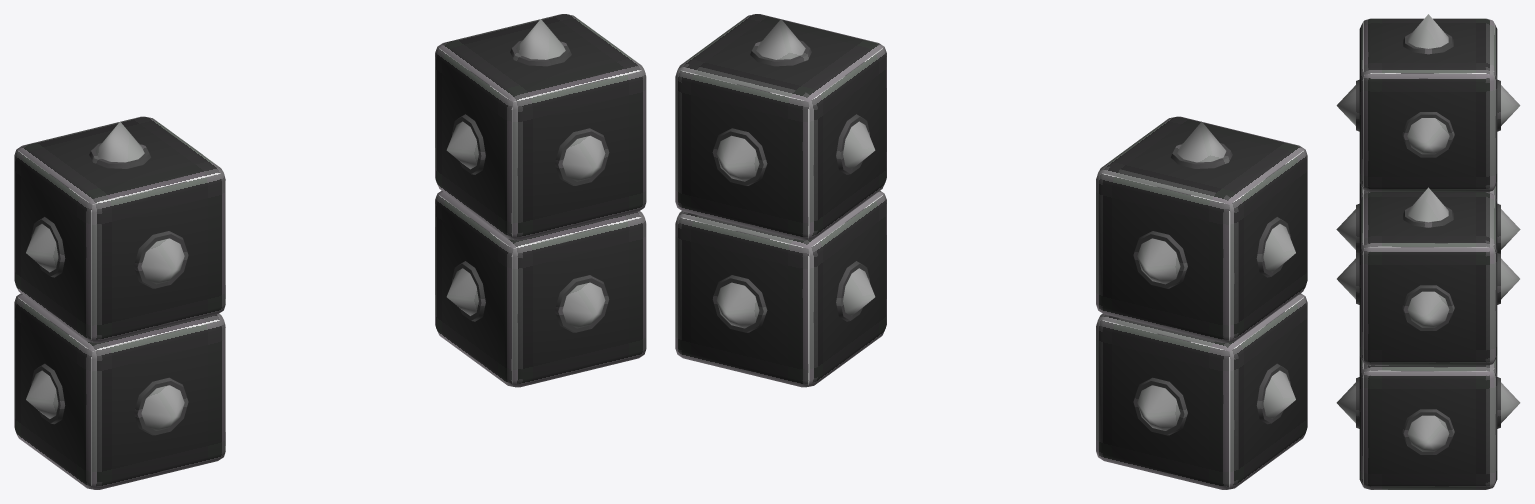
Rendered from spikes.glb.
3 renders of one model, left to right at view 1: azimuth 30°, elevation 25°; view 2: azimuth 150°, elevation 25°; view 3: azimuth 270°, elevation 25°, orthographic. The views are drawn at different scales.
Visible parts, largest first — view 1: Object_13; view 2: Object_13; view 3: Object_13.
Part boxes in pixels (x1,y1,x2,y2): Object_13: [14, 14, 646, 489]; Object_13: [675, 14, 1307, 489]; Object_13: [1336, 14, 1520, 489].
Size of the model in its own units: 18.16 by 9.37 by 5.62.
1 material, 1 textured.
